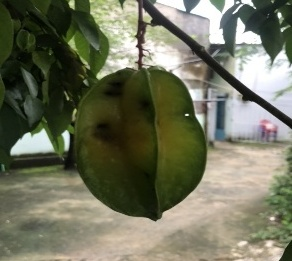Khe: (71, 64, 215, 224)
